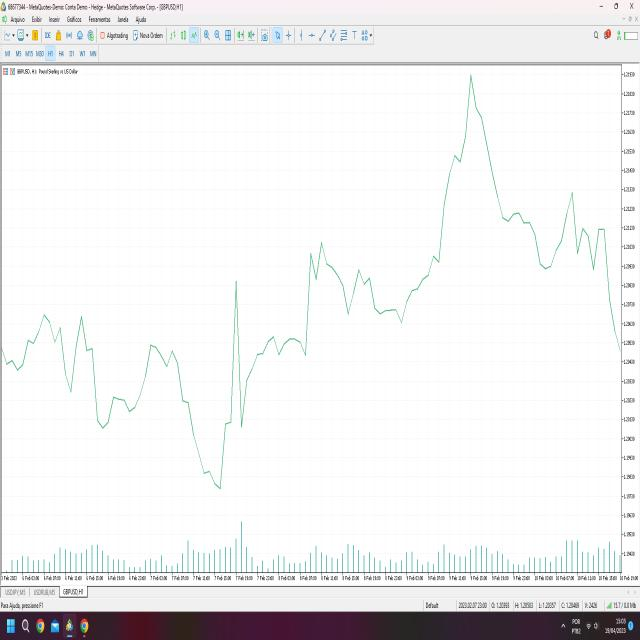oco: (292, 63, 623, 437)
